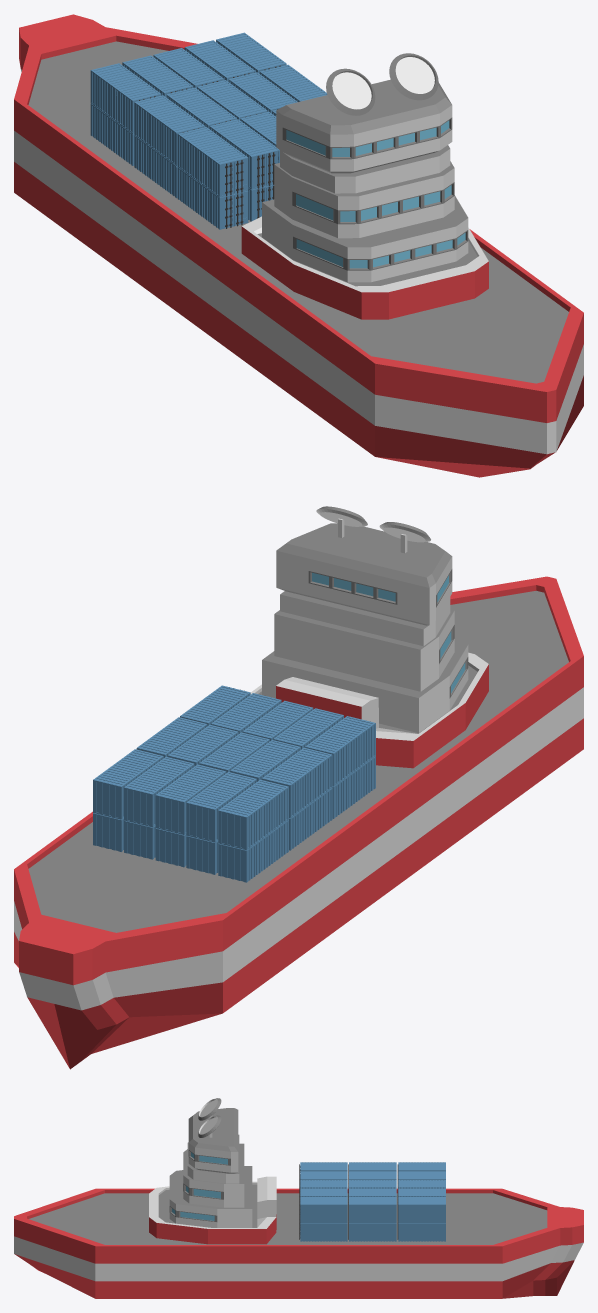
File: statek.fbx
3 views of the same model, one above another, from view 1: azimuth 30°, elevation 25°; view 2: azimuth 150°, elevation 25°; view 3: azimuth 270°, elevation 25° (orthographic). The views are drawn at different scales.
Parts seen in each view (by area): view 1: Cube, Cube.420, Cube.140, Cube.280, Cube.127, Cube.070, Cube.350, Cube.210, Cube.126, Cube.406, Cube.407, Cube.266 (+23 smaller); view 2: Cube, Cube.140, Cube.420, Cube.280, Cube.407, Cube.350, Cube.070, Cube.406, Cube.210, Cube.378, Cube.392, Cube.364 (+21 smaller); view 3: Cube, Cube.071, Cube.211, Cube.351, Cube.219, Cube.149, Cube.359, Cube.289, Cube.079, Cube.011, Cube.001, Cube.141 (+16 smaller).
Part boxes in pixels (bbox=[...]): Cube: bbox=[14, 14, 583, 477]; Cube.420: bbox=[91, 63, 160, 131]; Cube.140: bbox=[178, 127, 247, 195]; Cube.280: bbox=[135, 95, 204, 163]; Cube.127: bbox=[179, 128, 246, 194]; Cube.070: bbox=[178, 167, 246, 228]; Cube.350: bbox=[91, 104, 133, 165]; Cube.210: bbox=[135, 136, 177, 197]; Cube.126: bbox=[210, 119, 278, 187]; Cube.406: bbox=[123, 56, 192, 95]; Cube.407: bbox=[92, 65, 157, 130]; Cube.266: bbox=[166, 88, 236, 127]; Cube: bbox=[14, 506, 583, 1069]; Cube.140: bbox=[307, 716, 375, 784]; Cube.420: bbox=[220, 779, 288, 848]; Cube.280: bbox=[264, 748, 331, 816]; Cube.407: bbox=[221, 781, 286, 847]; Cube.350: bbox=[220, 820, 288, 881]; Cube.070: bbox=[333, 756, 375, 818]; Cube.406: bbox=[187, 772, 256, 840]; Cube.210: bbox=[289, 788, 331, 849]; Cube.378: bbox=[126, 757, 194, 825]; Cube.392: bbox=[156, 764, 225, 833]; Cube.364: bbox=[93, 749, 162, 817]; Cube: bbox=[14, 1098, 583, 1298]; Cube.071: bbox=[302, 1197, 345, 1222]; Cube.211: bbox=[350, 1197, 394, 1222]; Cube.351: bbox=[400, 1197, 444, 1222]; Cube.219: bbox=[349, 1204, 395, 1222]; Cube.149: bbox=[349, 1223, 395, 1241]; Cube.359: bbox=[399, 1204, 445, 1222]; Cube.289: bbox=[399, 1223, 445, 1241]; Cube.079: bbox=[301, 1204, 347, 1222]; Cube.011: bbox=[301, 1223, 347, 1241]; Cube.001: bbox=[302, 1224, 345, 1241]; Cube.141: bbox=[350, 1224, 394, 1241].
Size of the model in its own units: 365 by 557 by 1531.
